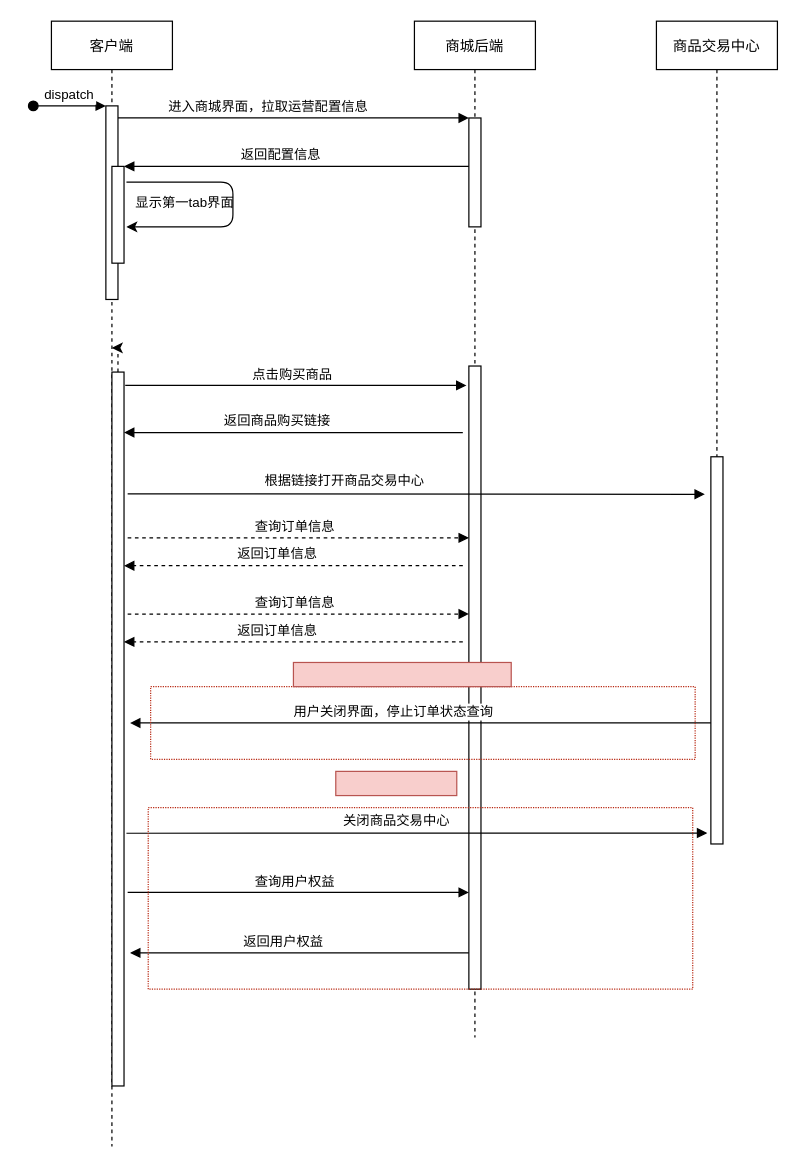
This 799x1168 diagram has some shape labels left out. The shapes that lost their labels are listed below. From the top down, each one's centre as x and y in pixels, then its label:
At (401,674): "情况1，用户主动关闭交易中心".
At (396,783): "情况2,购买成功".
